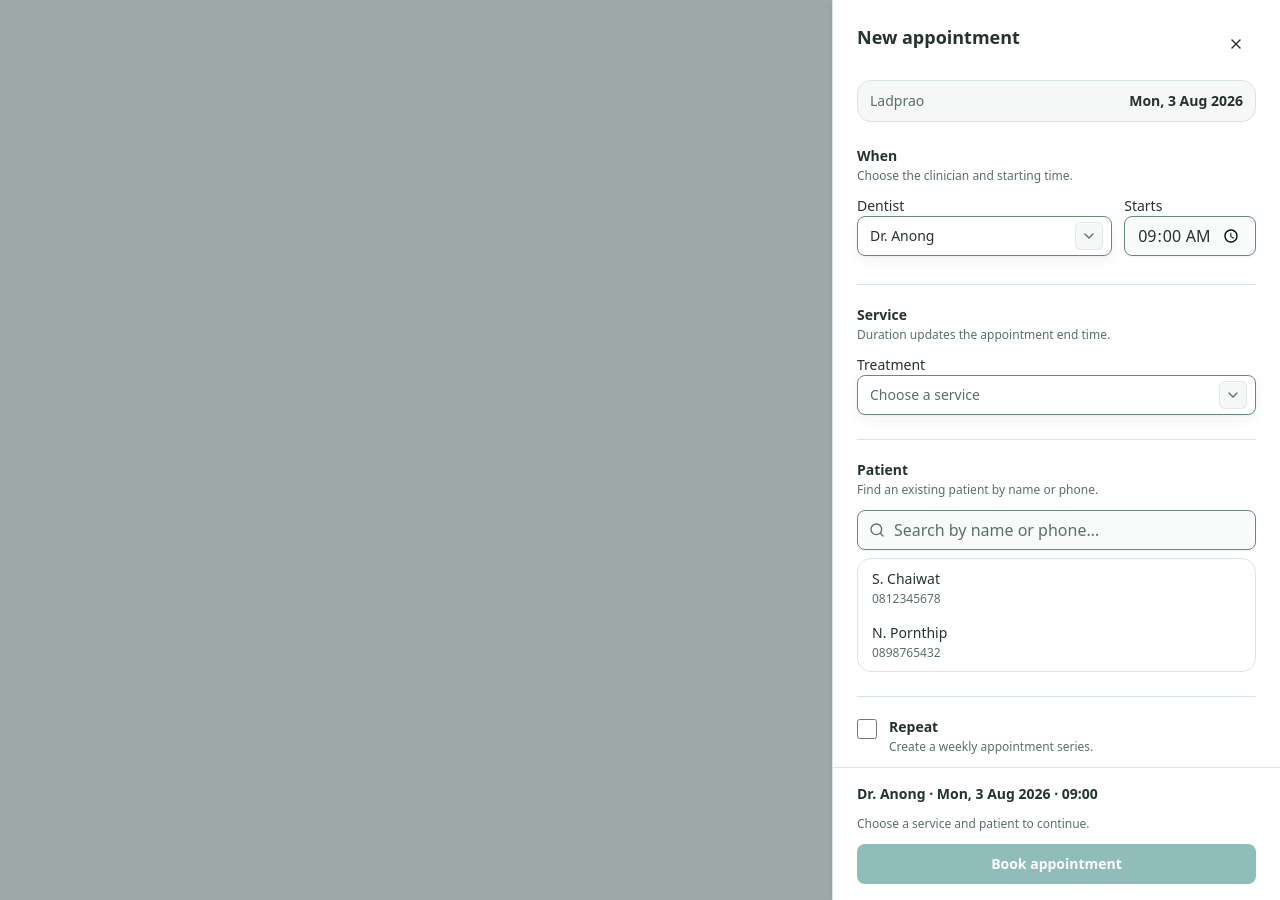
Test: CreateDrawer › cannot be submitted until both a service and a patient are chosen
expect the button "S. Chaiwat 0812345678" is shown: met, box [862,563,1251,613]
expect the button "Book appointment" is disabled: met, box [857,844,1256,884]
Click the dropdown labelled "service".
click(925, 394)  # box [857,375,1256,415]
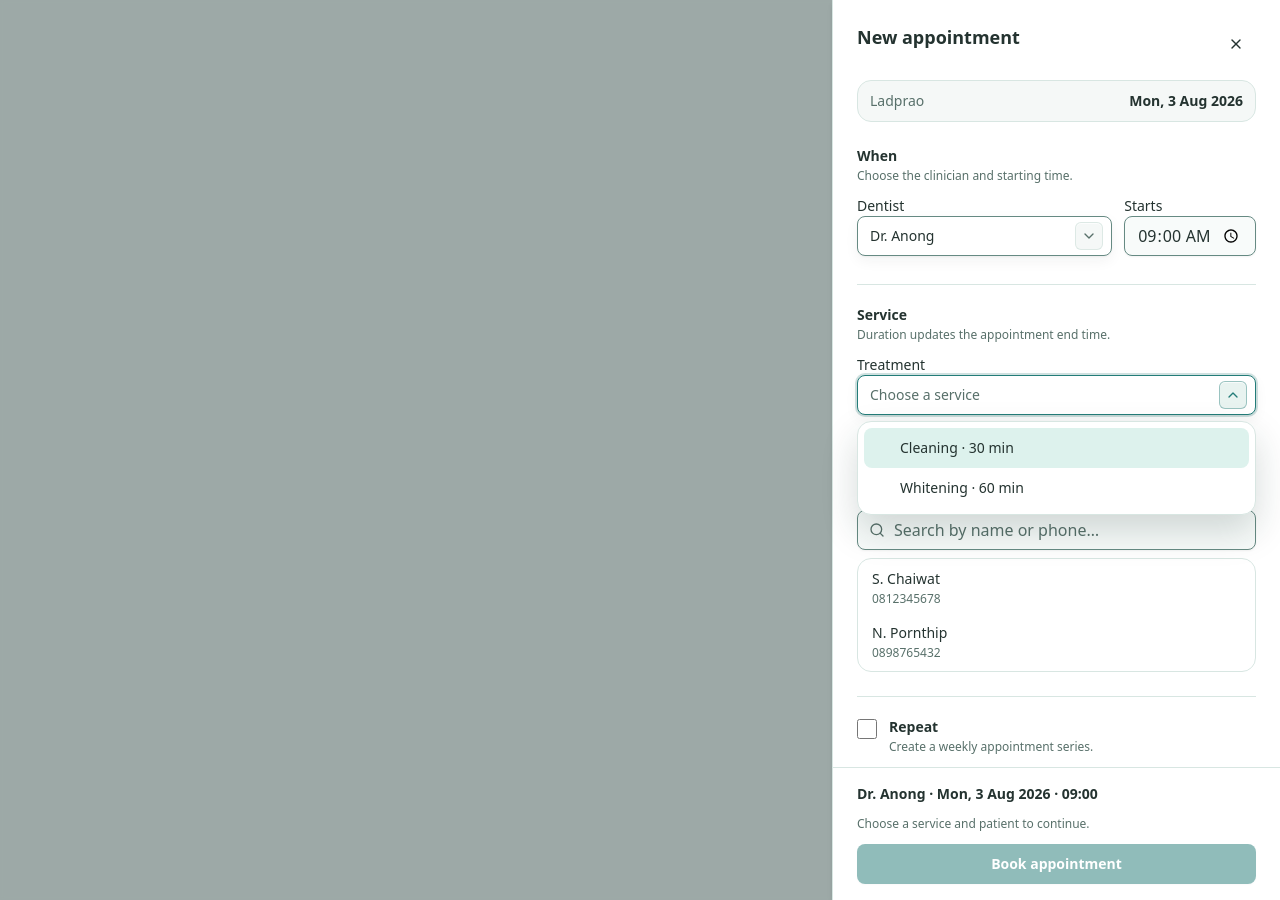
Click the option "Whitening · 60 min".
click(962, 488)  # box [900,478,1024,497]
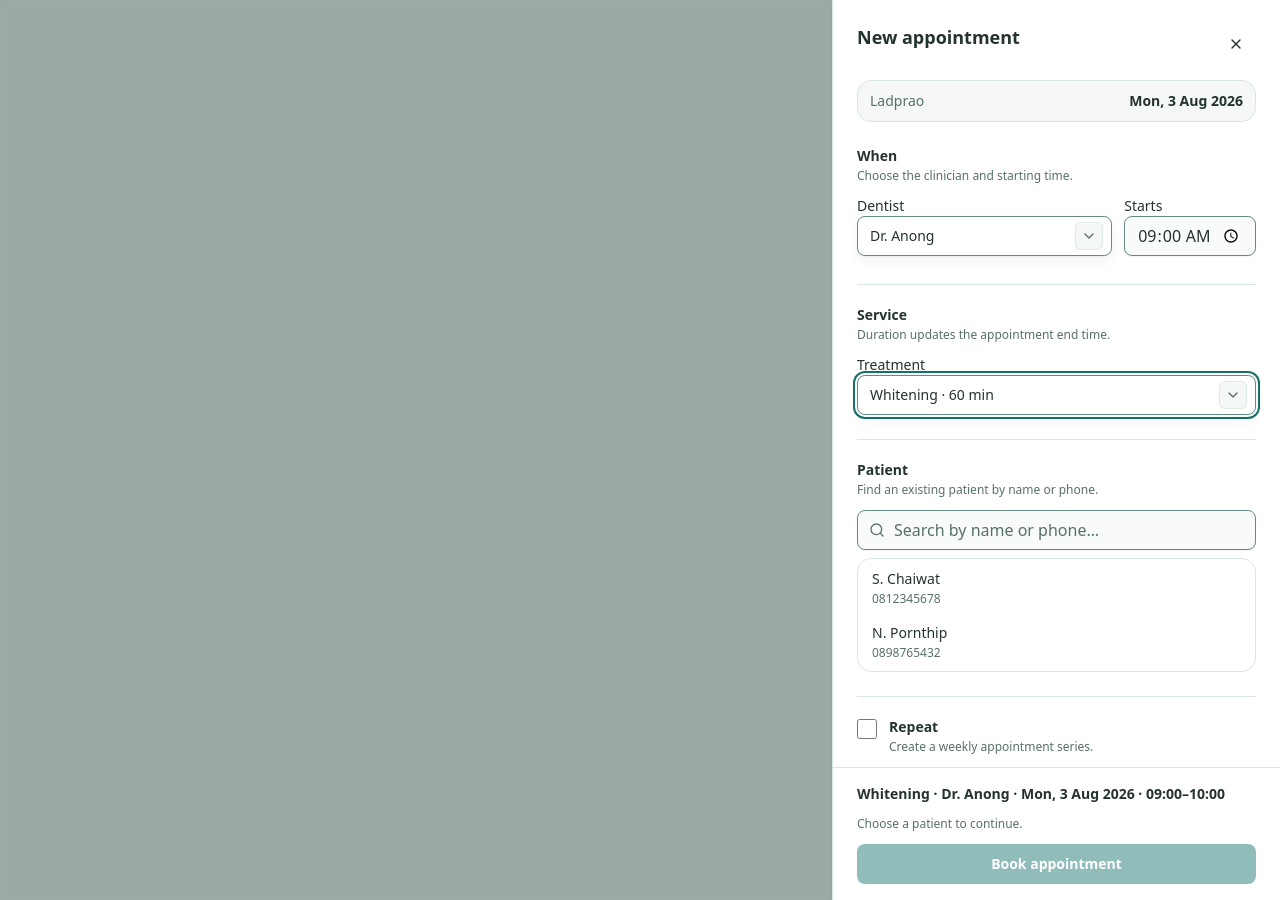
expect the button "Book appointment" is disabled: met, box [857,844,1256,884]
Click the button "S. Chaiwat 0812345678".
click(906, 578)  # box [862,563,1251,613]
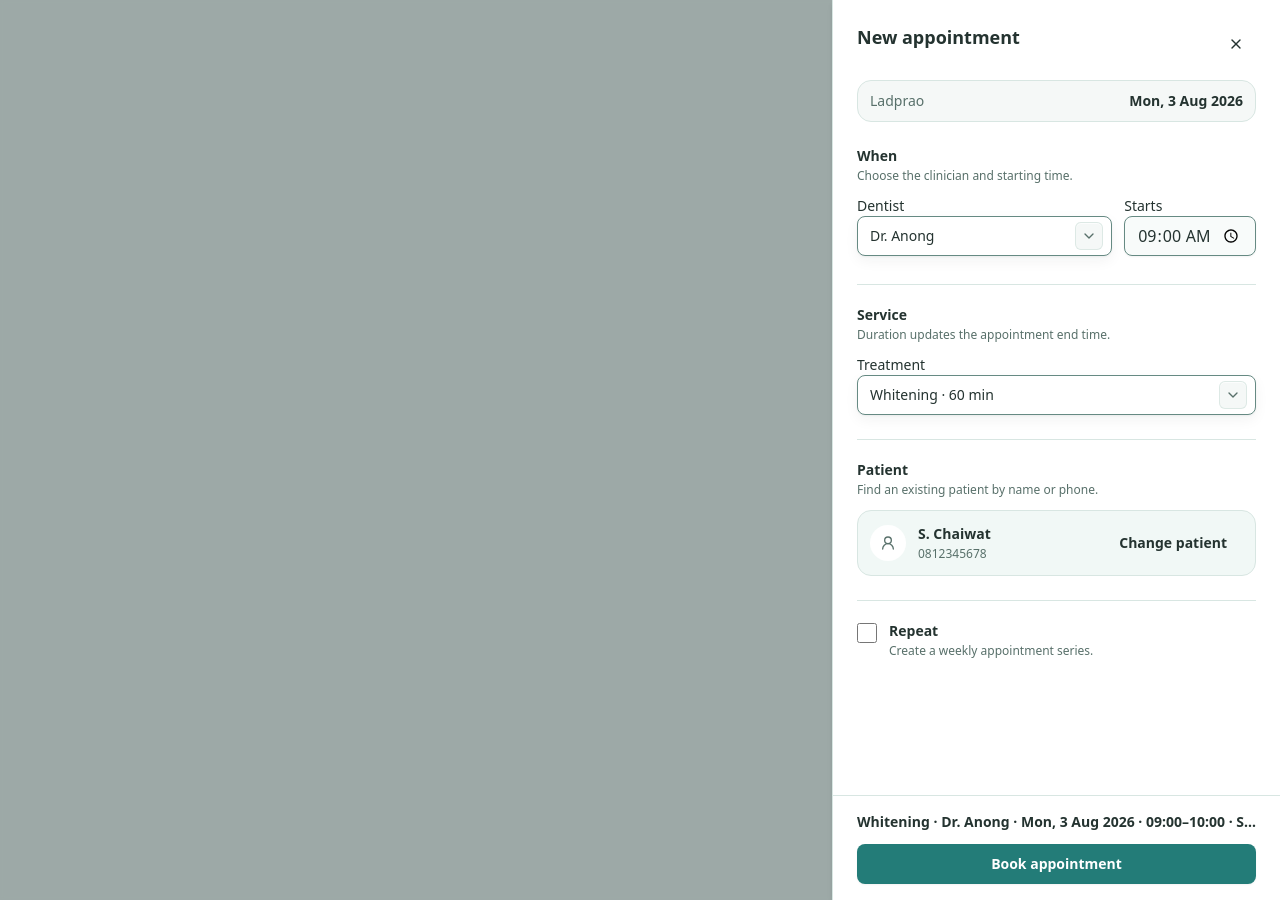
expect the button "Book appointment" is enabled: met, box [857,844,1256,884]
